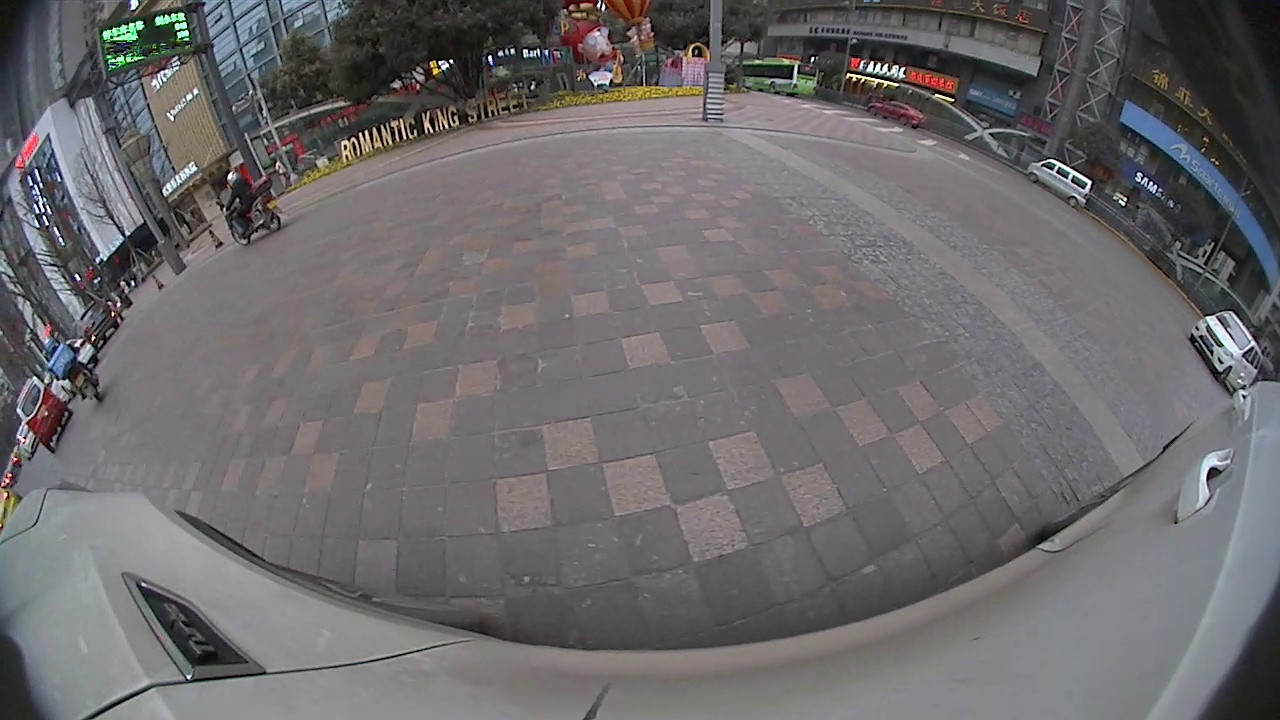bus: (738, 56, 820, 95)
car: (1189, 311, 1264, 393), (1028, 160, 1091, 207), (866, 101, 924, 126)
front: (230, 223, 254, 248), (1213, 365, 1233, 386), (864, 101, 879, 117), (1025, 170, 1041, 185)
rear: (262, 211, 284, 233), (764, 78, 780, 97), (896, 113, 913, 129), (1066, 194, 1079, 210)
rider: (223, 171, 284, 248), (15, 378, 73, 452), (45, 340, 101, 399)
